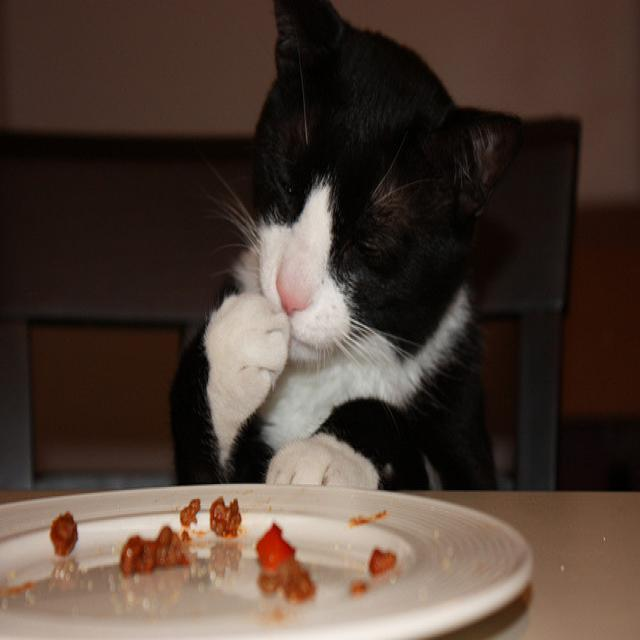chair: (0, 116, 580, 494)
dining table: (0, 483, 640, 632)
